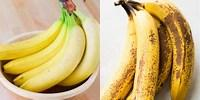banana: (0, 3, 102, 96), (0, 10, 85, 95), (154, 0, 196, 100), (107, 15, 141, 100), (129, 7, 157, 100)
